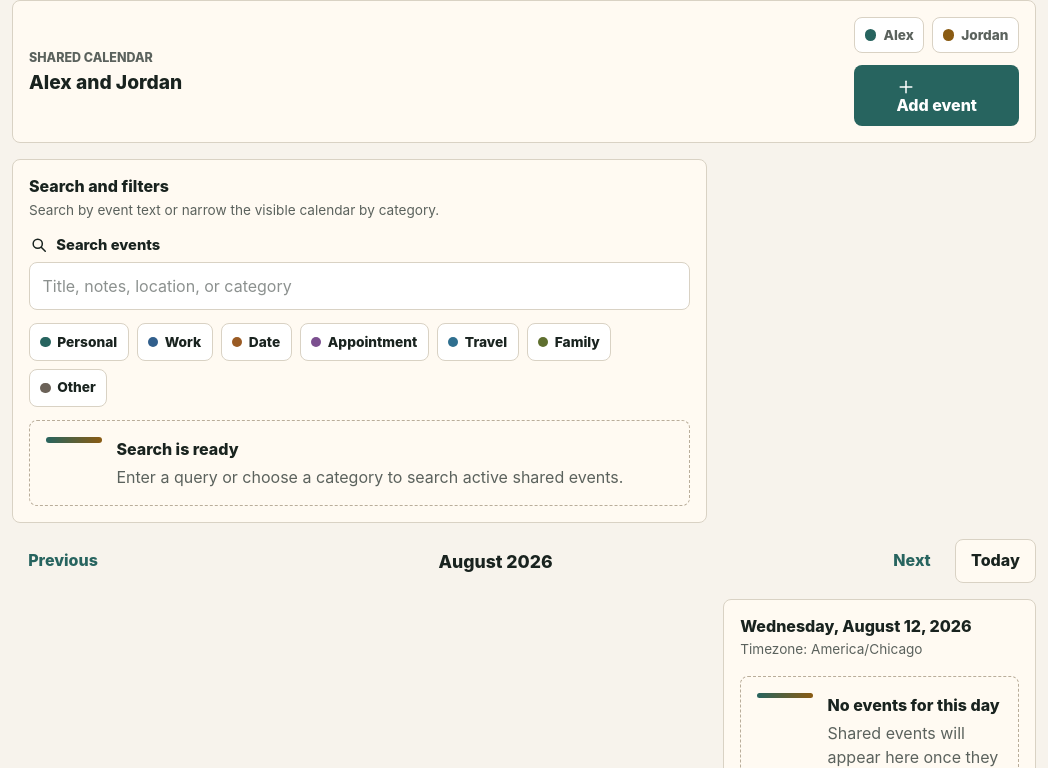
Test case: SharedCalendar › supports month navigation and returning to today
Click the button with aria-label "Next month".
click(912, 561)  # box [877,539,947,583]
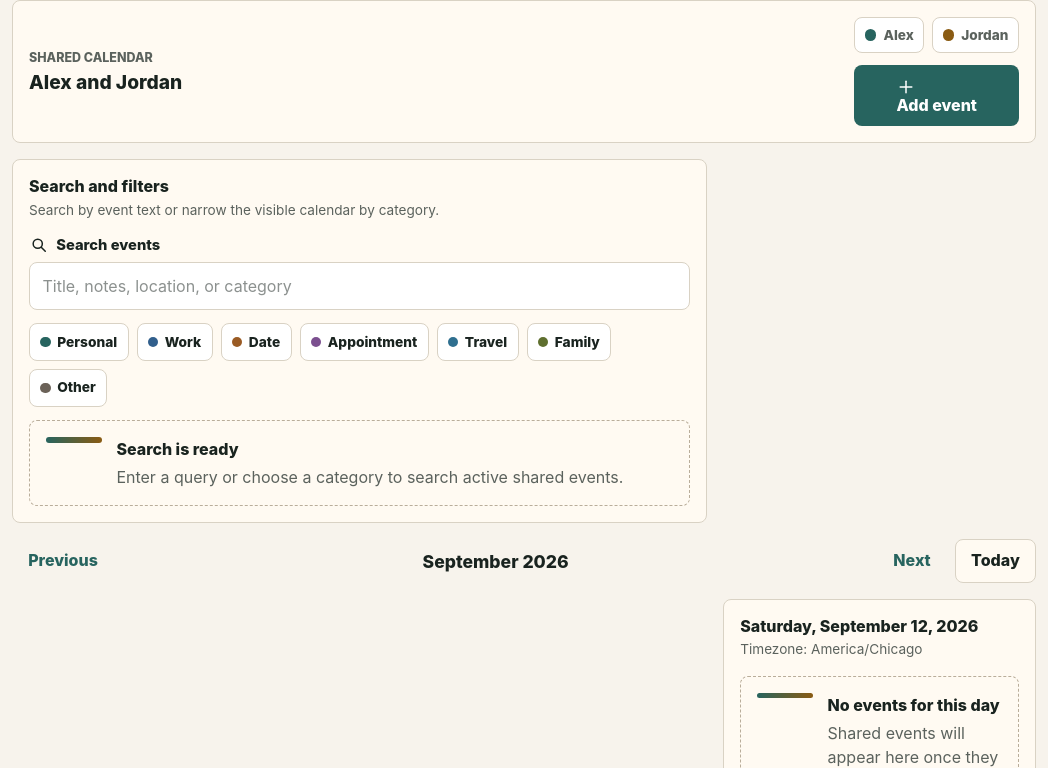
Result: the text "September 2026" is shown at [422,550,569,572]
Result: the heading "Saturday, September 12, 2026" is shown at [740,616,1019,636]
Click the button with aria-label "Previous month".
click(63, 561)  # box [12,539,114,583]
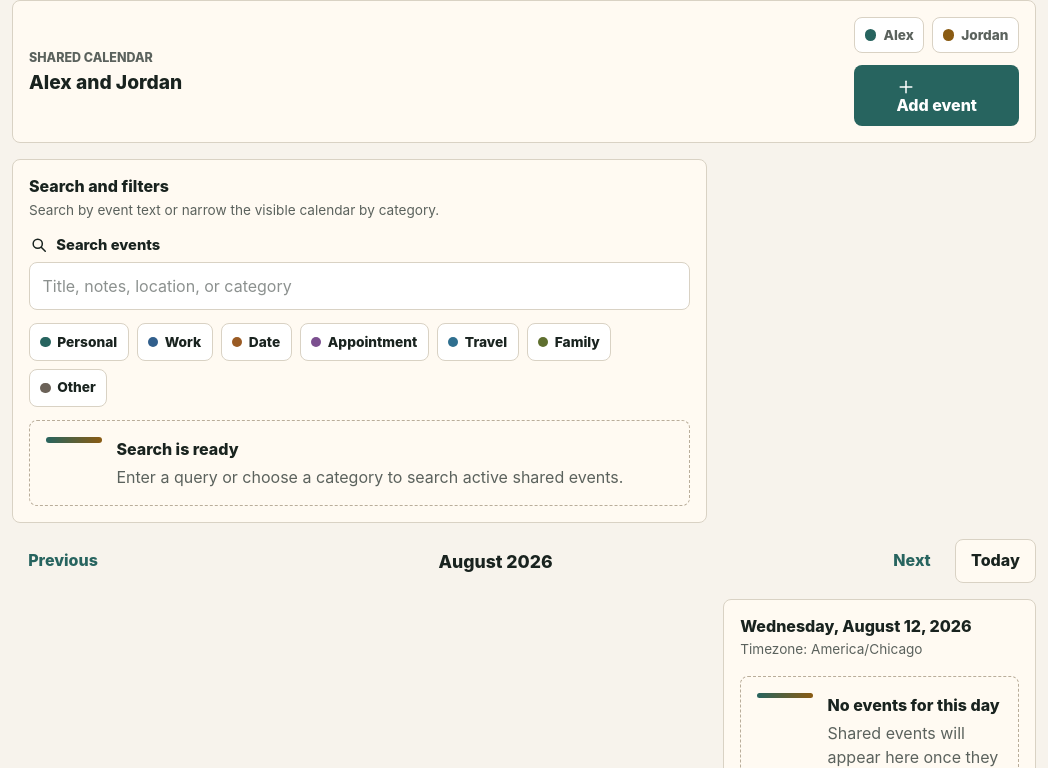
Result: the text "August 2026" is shown at [439,550,553,572]
Click the button with aria-label "Next month".
click(912, 561)  # box [877,539,947,583]
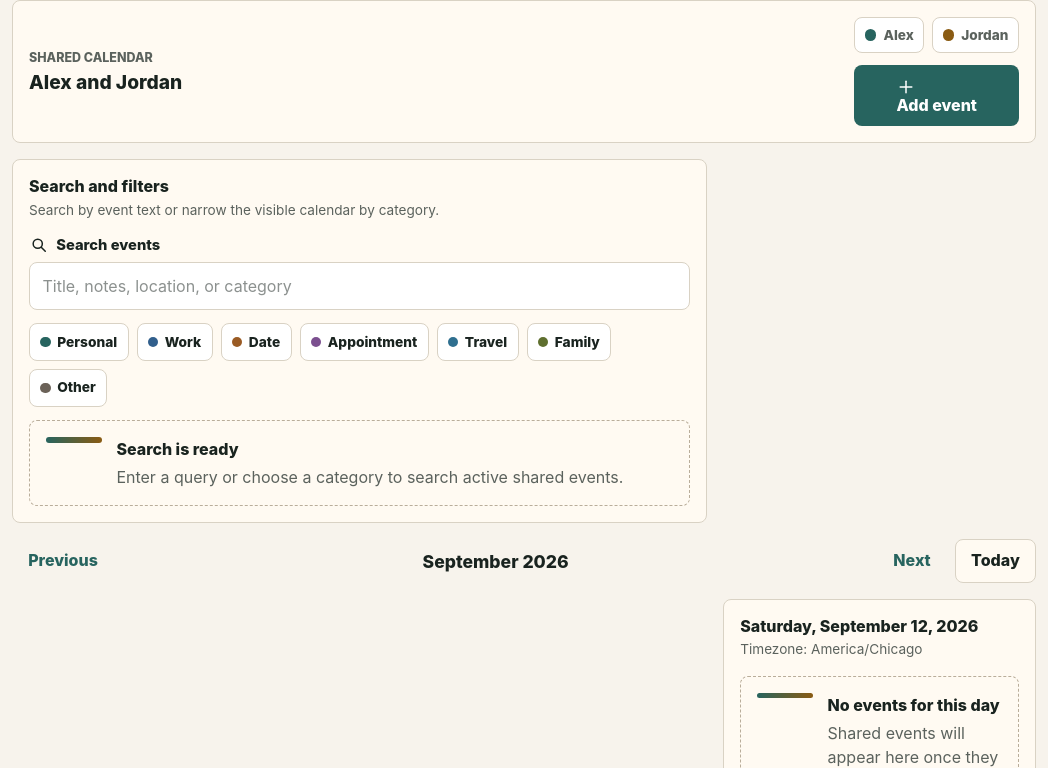
Result: the text "September 2026" is shown at [422,550,569,572]
Click the button "Today".
click(995, 561)  # box [955,539,1036,583]
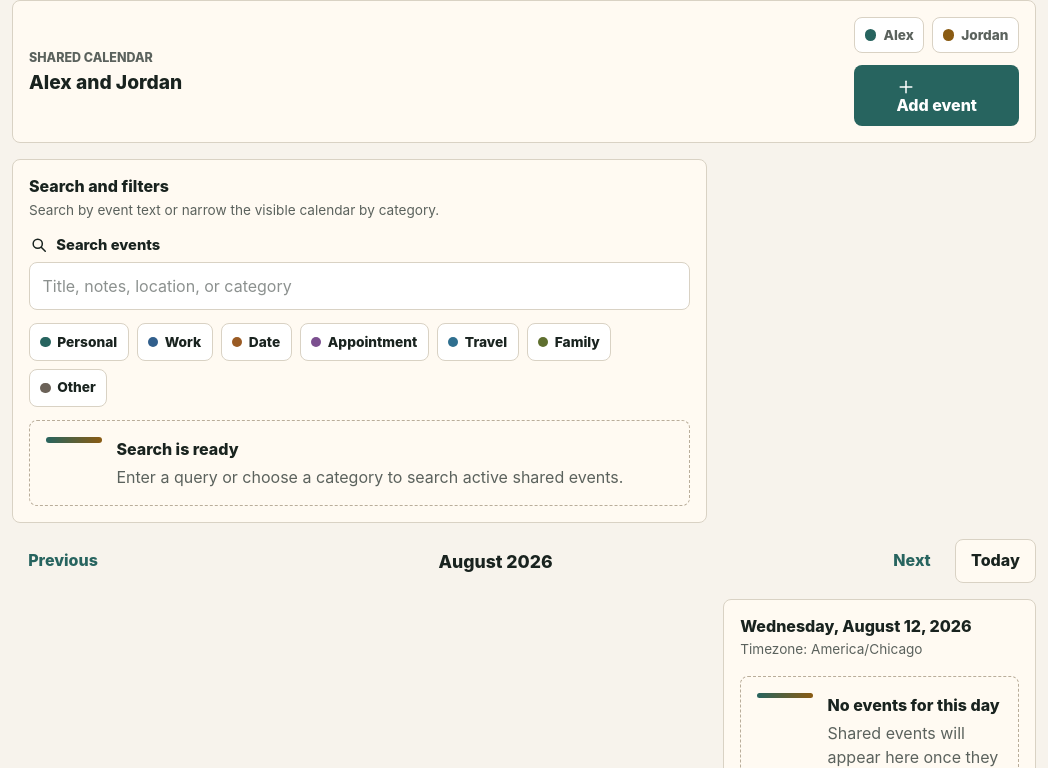
Result: the text "August 2026" is shown at [439,550,553,572]
Result: the heading "Wednesday, August 12, 2026" is shown at [740,616,972,636]
